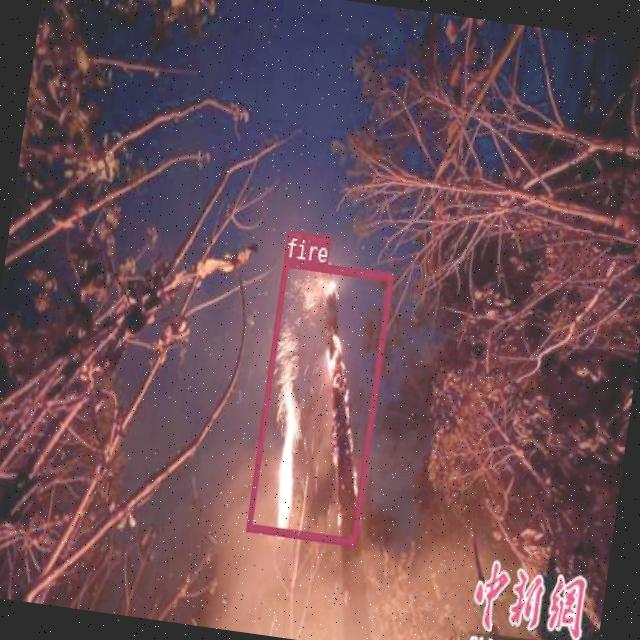fire: (246, 257, 393, 544)
